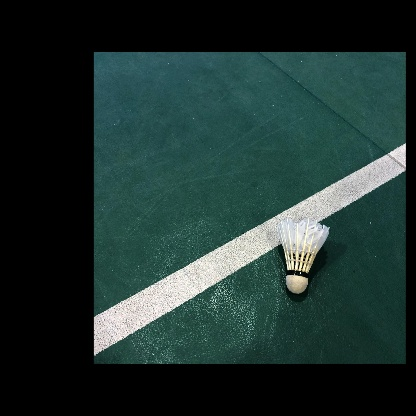ball_single: (277, 217, 329, 294)
